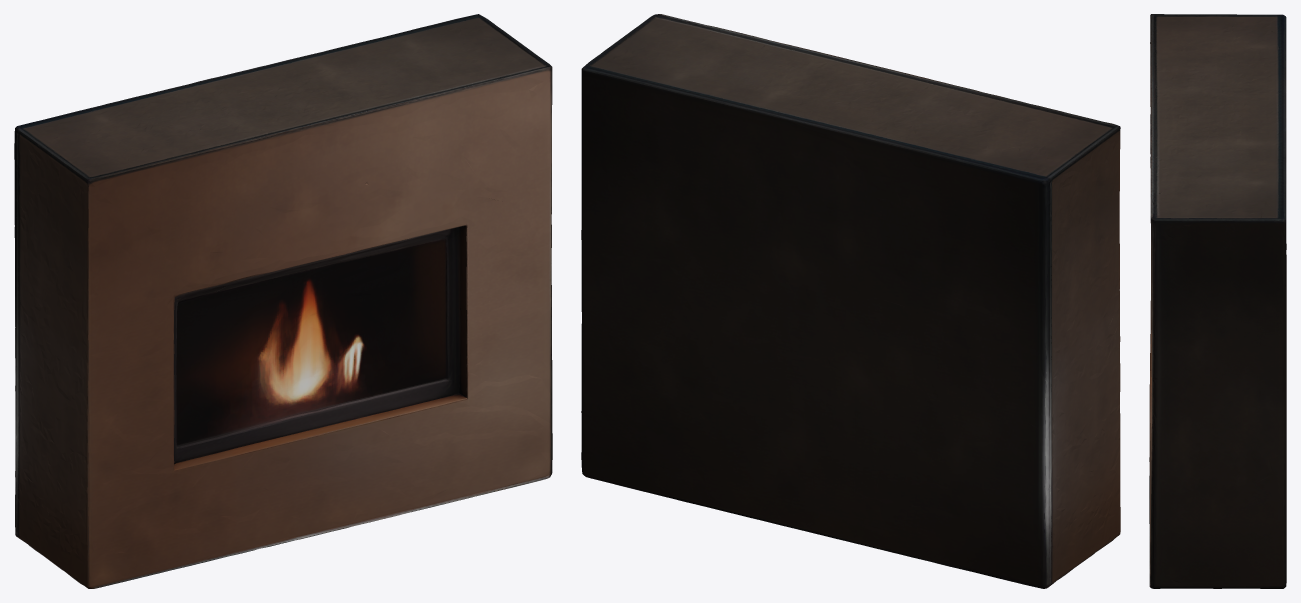
The picture shows the model from 3 angles, left to right: view 1: azimuth 30°, elevation 25°; view 2: azimuth 150°, elevation 25°; view 3: azimuth 270°, elevation 25°; orthographic projection. The views are drawn at different scales.
Parts seen in each view (by area): view 1: world; view 2: world; view 3: world.
Boxes of the visible parts, <box> form: world: <box>14,14,552,588</box>; world: <box>581,14,1120,588</box>; world: <box>1149,14,1286,588</box>.
Bounding box in the file's own units: 1 × 0.842 × 0.2821.
1 material, 1 textured.
